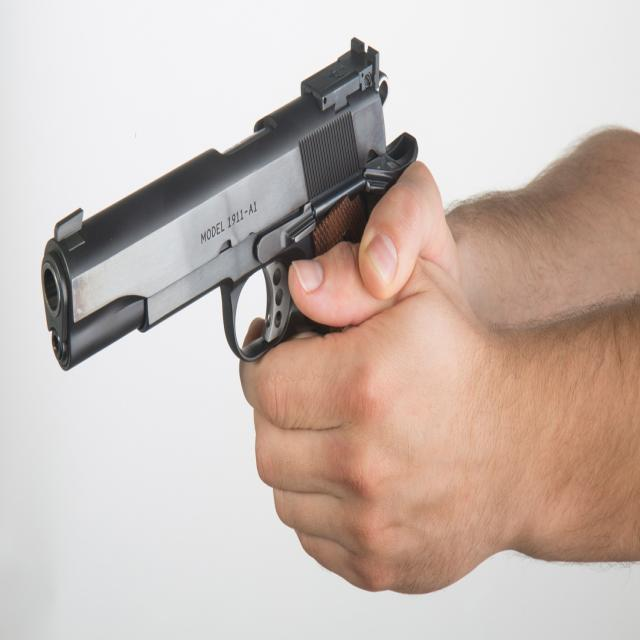HandGun: (39, 38, 420, 373)
